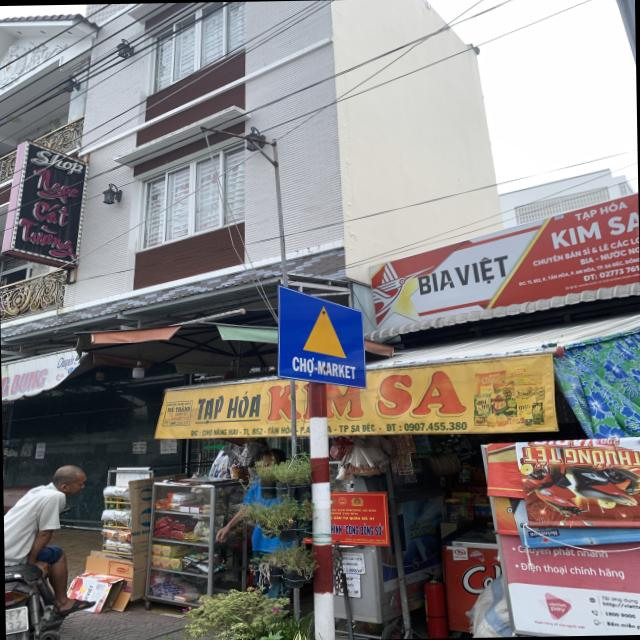Cho_Quay_Xe: (276, 284, 367, 388)
